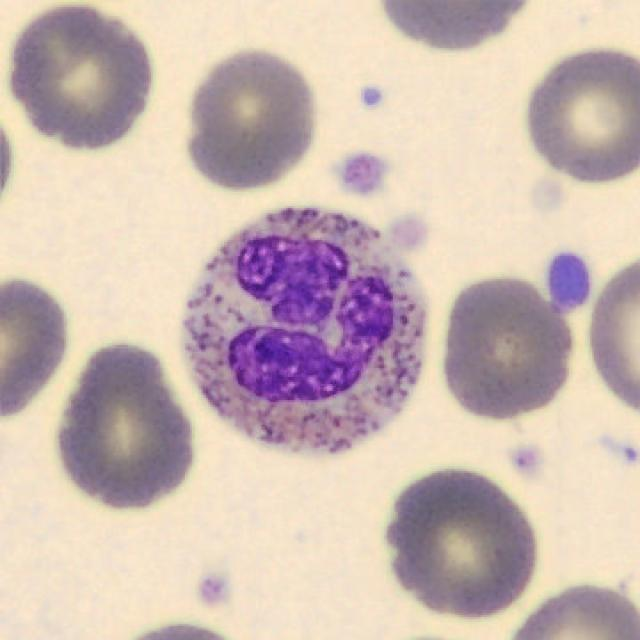Neutrofilo segmentado: (181, 208, 428, 457)
